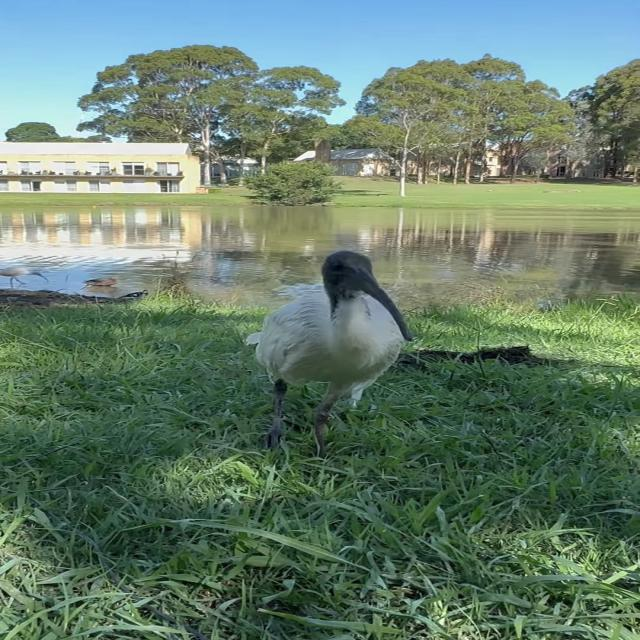Birds-Ibis: (250, 246, 417, 464), (0, 262, 53, 292)
Birds-Other: (77, 274, 125, 292)
